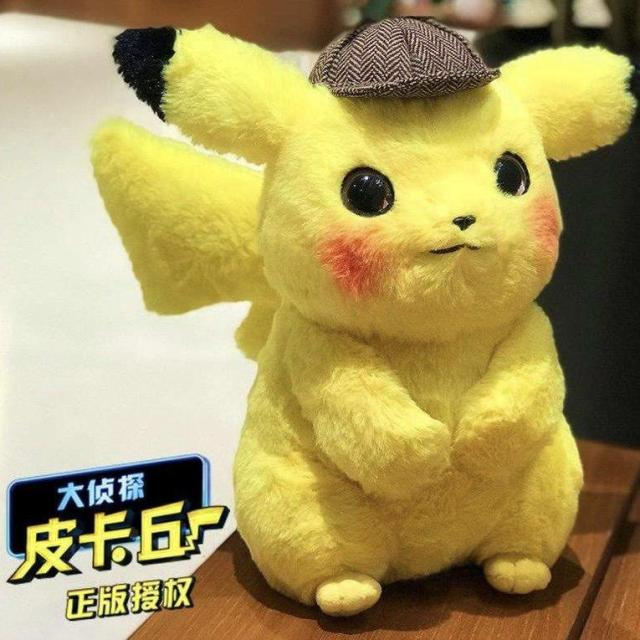pikachu: (92, 16, 635, 614)
